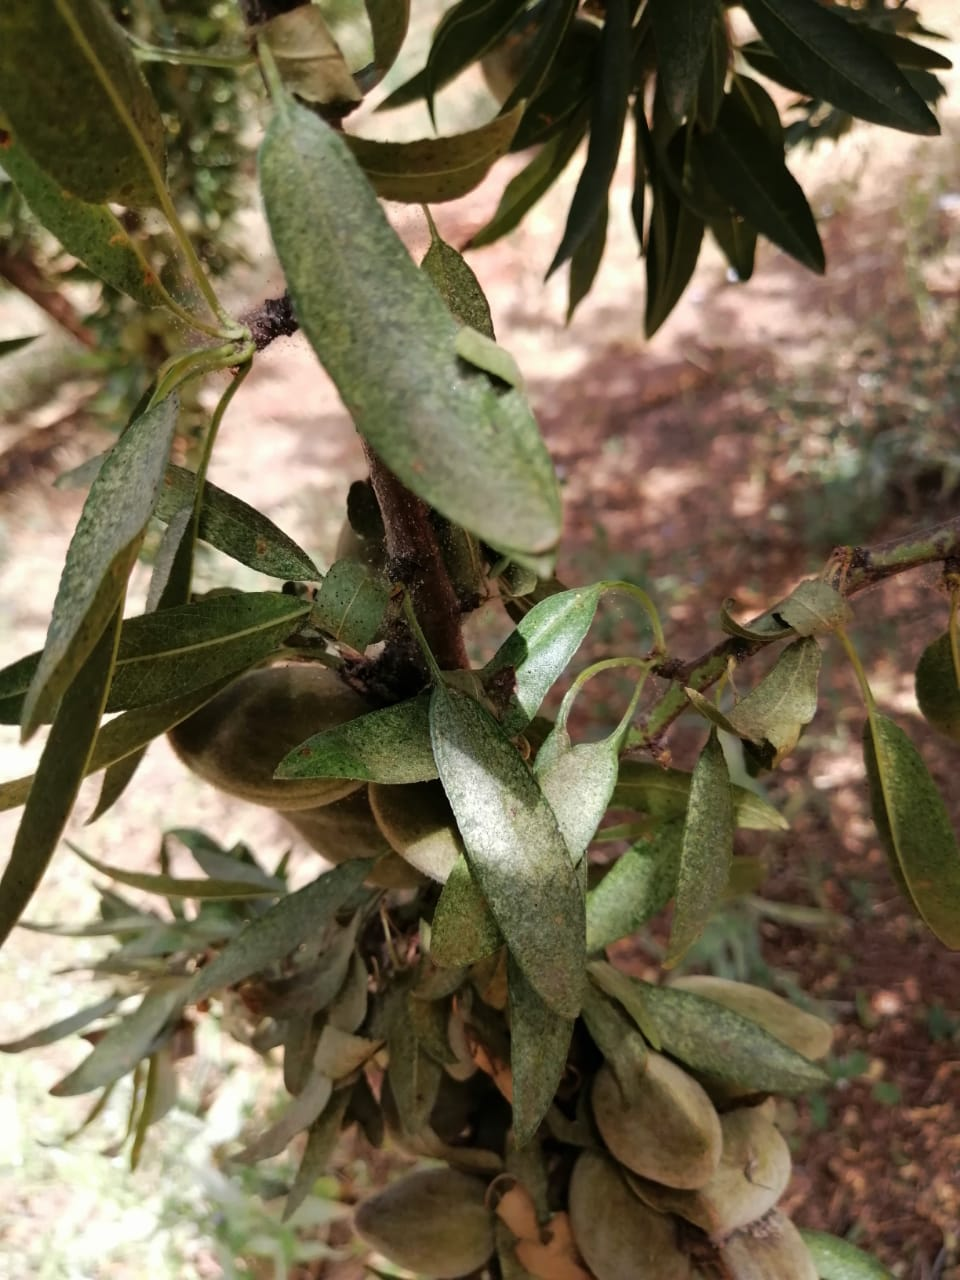acariens: (257, 99, 564, 552), (10, 391, 183, 748), (428, 688, 588, 1013), (590, 959, 837, 1096), (860, 708, 960, 957), (659, 733, 737, 968)
